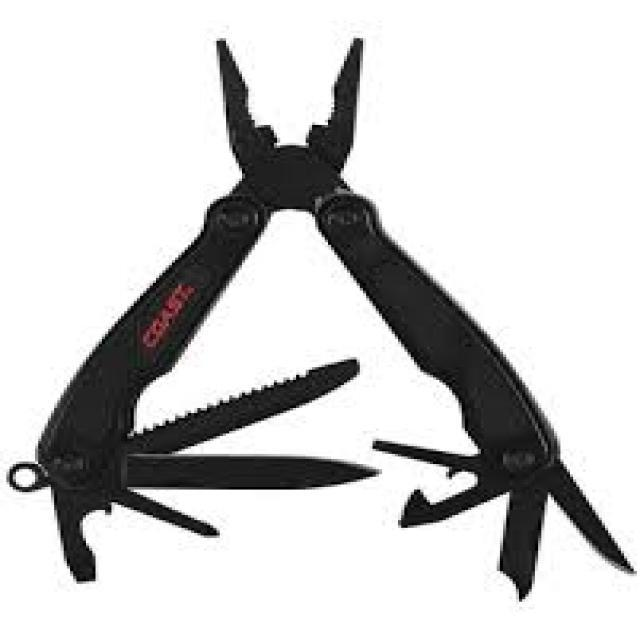pliers: (124, 19, 480, 402)
